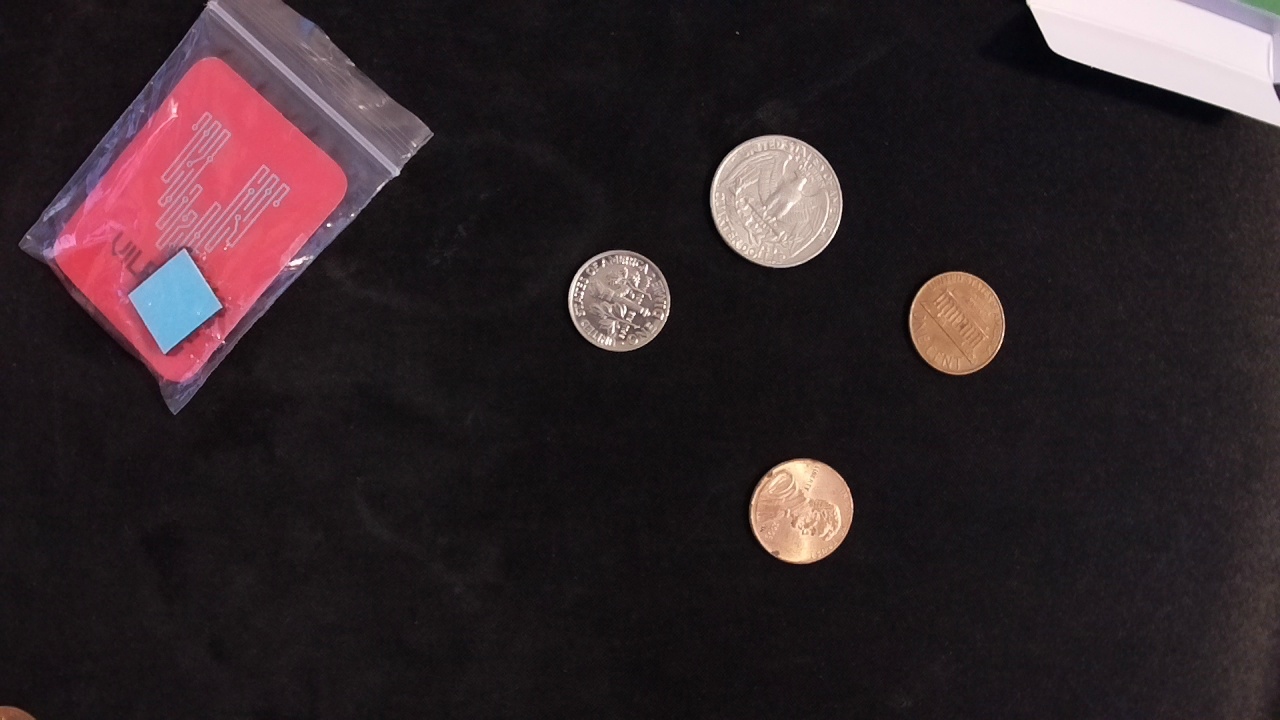dime: (564, 245, 674, 357)
penny: (747, 454, 857, 568), (904, 266, 1010, 380)
quarter: (705, 130, 845, 270)
